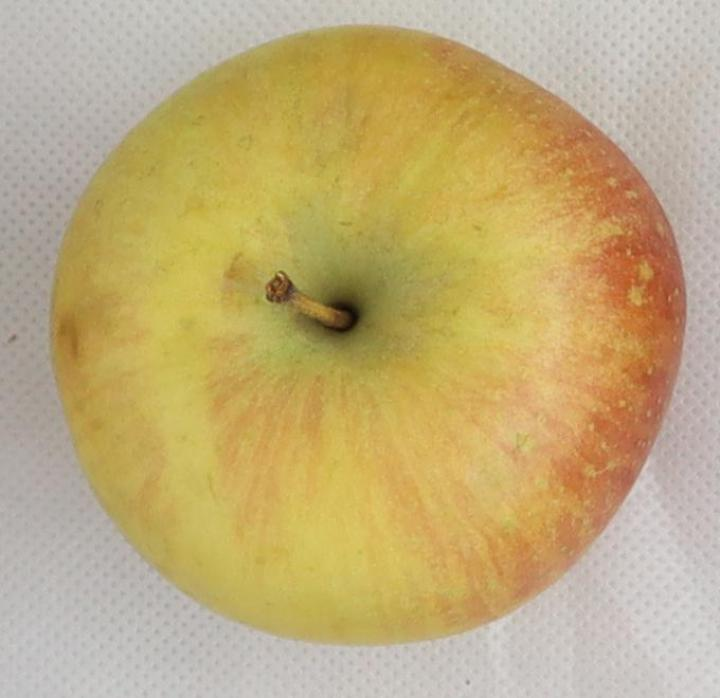apple: (52, 26, 684, 644)
